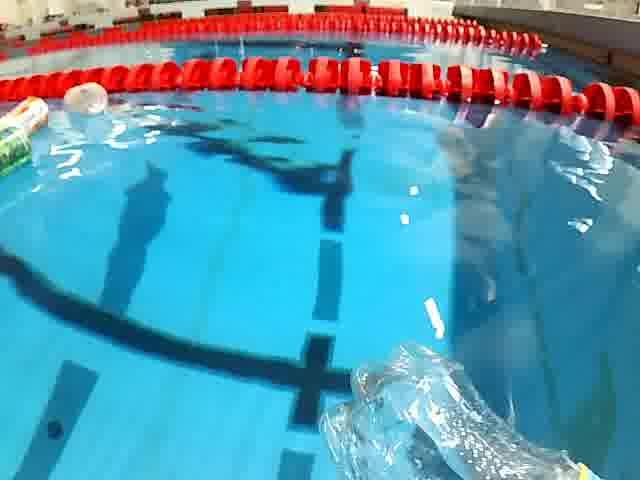Bottle: (311, 336, 627, 480), (59, 79, 114, 120)
Can: (0, 92, 54, 142), (0, 122, 36, 177)
